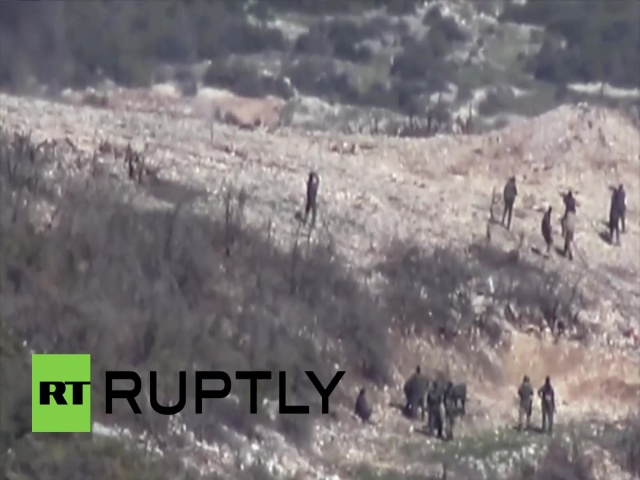person: (404, 362, 427, 425), (535, 375, 557, 437), (512, 373, 535, 432), (608, 175, 628, 233), (537, 204, 557, 259), (425, 378, 442, 442), (499, 174, 518, 230), (604, 197, 623, 252), (443, 381, 460, 439), (558, 185, 578, 232), (305, 171, 321, 227), (560, 206, 577, 258)
